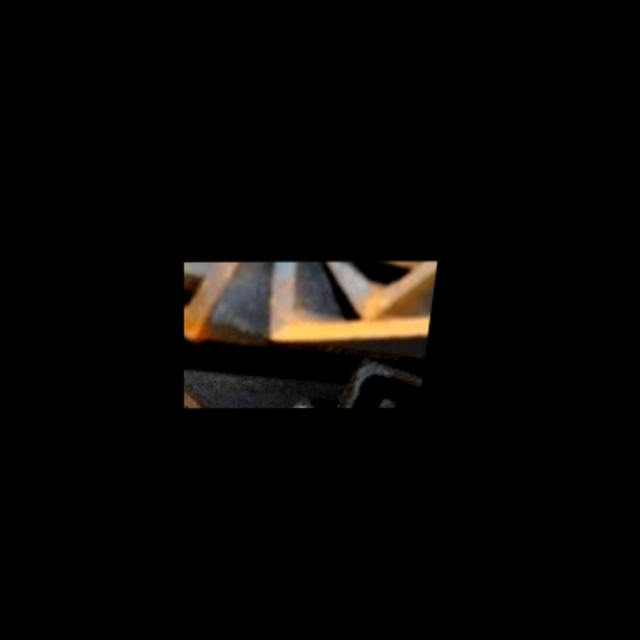Shveller: (338, 361, 425, 408), (184, 372, 270, 408)
